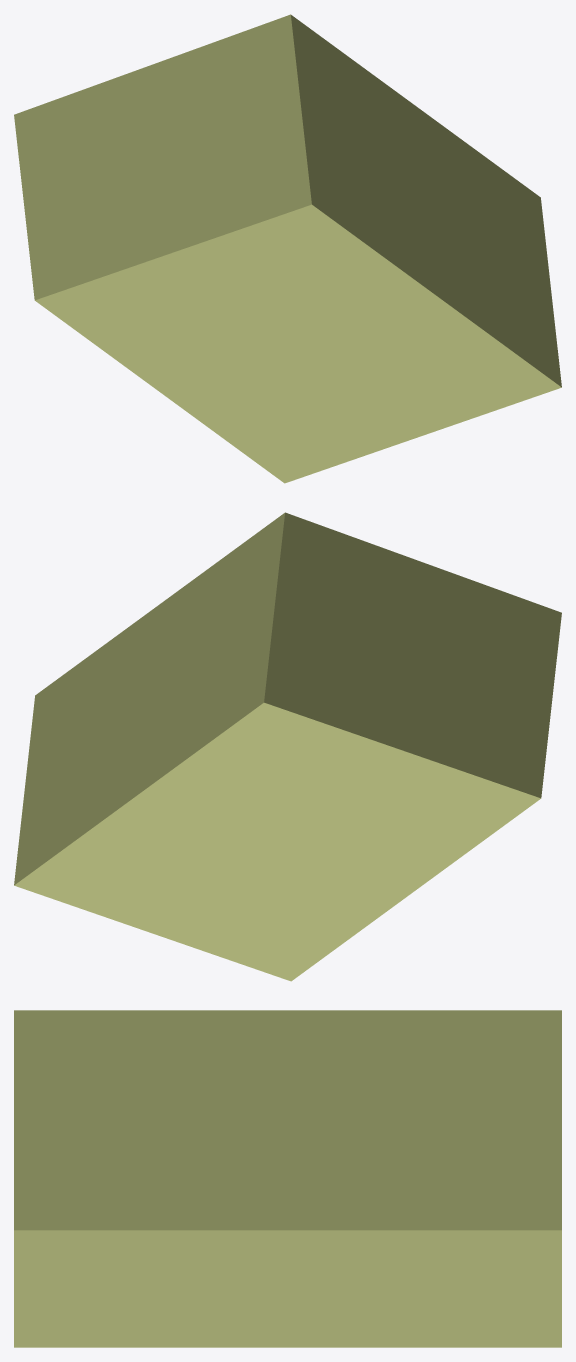
3 views of the same model, one above another, from view 1: azimuth 30°, elevation 25°; view 2: azimuth 150°, elevation 25°; view 3: azimuth 270°, elevation 25° (orthographic). The views are drawn at different scales.
Parts seen in each view (by area): view 1: 0_2_3_3_3_0_2_3_0_3_0; view 2: 0_2_3_3_3_0_2_3_0_3_0; view 3: 0_2_3_3_3_0_2_3_0_3_0.
Part boxes in pixels (<box>): 0_2_3_3_3_0_2_3_0_3_0: <box>14,14,561,483</box>; 0_2_3_3_3_0_2_3_0_3_0: <box>14,512,561,981</box>; 0_2_3_3_3_0_2_3_0_3_0: <box>14,1010,561,1347</box>.
Bounding box in the file's own units: 6.19 × 4.44 × 9.
